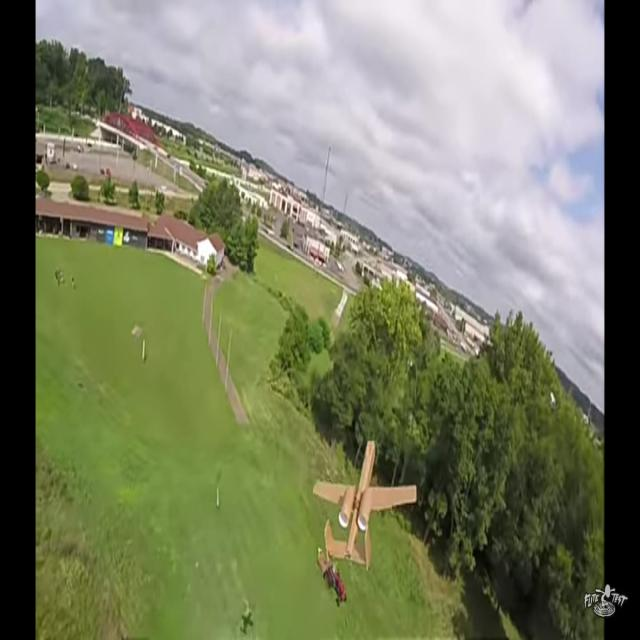iha: (344, 439, 385, 571)
